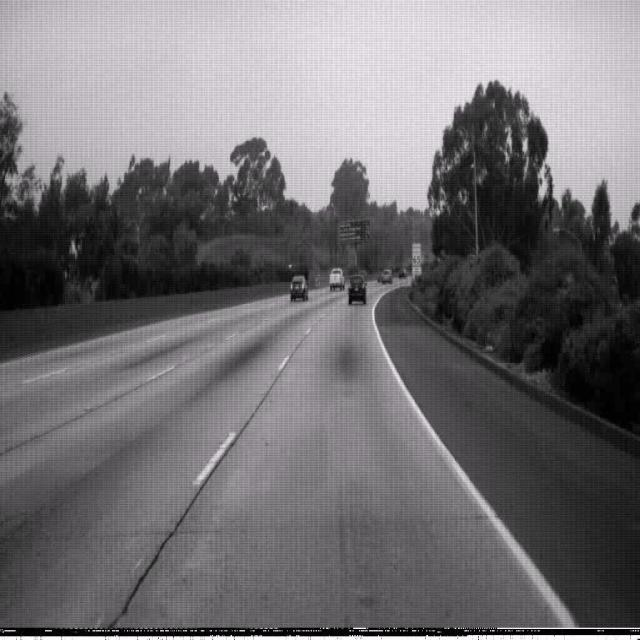speedLimit65: (411, 242, 422, 267)
